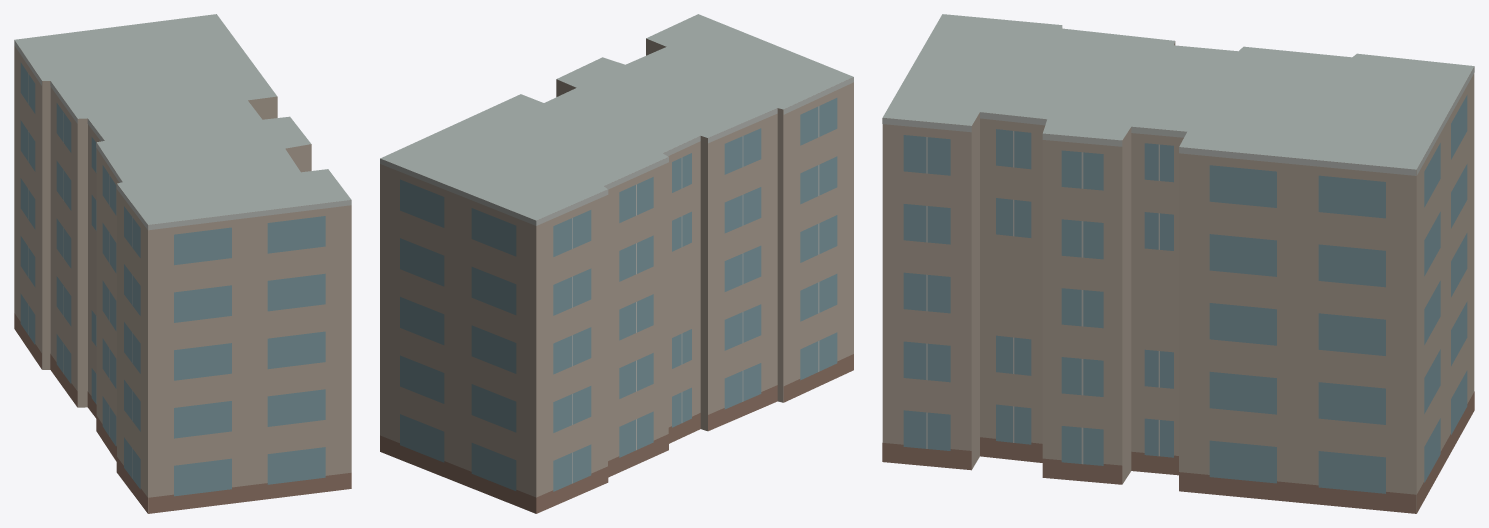
Rendered from survey-upis-32791641.glb.
The picture shows the model from 3 angles, left to right: view 1: azimuth 30°, elevation 25°; view 2: azimuth 150°, elevation 25°; view 3: azimuth 270°, elevation 25°; orthographic projection. The views are drawn at different scales.
Parts seen in each view (by area): view 1: survey-upis-32791641.tmp; view 2: survey-upis-32791641.tmp; view 3: survey-upis-32791641.tmp.
Boxes of the visible parts, x1,y1,x2,y2 form: survey-upis-32791641.tmp: (14,14,351,513); survey-upis-32791641.tmp: (380,14,853,513); survey-upis-32791641.tmp: (882,14,1474,513).
Bounding box in the file's own units: 12.81 × 13.2 × 20.58.
